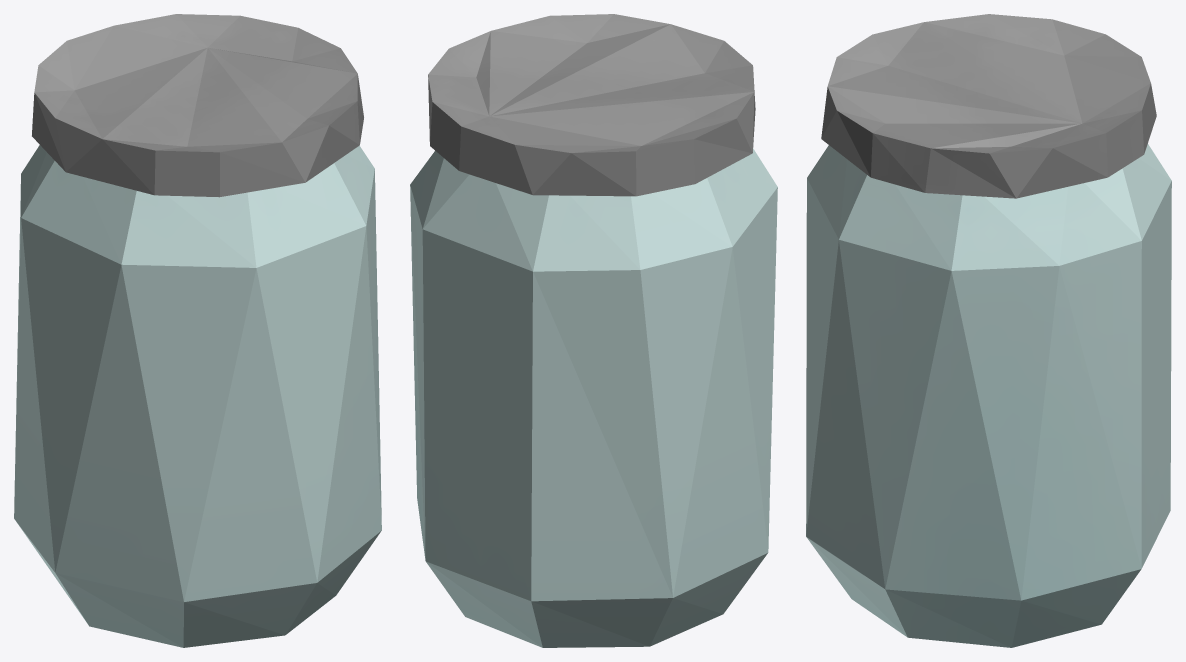
The model's file is bottle2_2a.dae.
3 views of the same model, side by side, from view 1: azimuth 30°, elevation 25°; view 2: azimuth 150°, elevation 25°; view 3: azimuth 270°, elevation 25° (orthographic).
Parts seen in each view (by area): view 1: node; view 2: node; view 3: node.
Part boxes in pixels (<box>): node: <box>14,14,381,647</box>; node: <box>410,14,777,647</box>; node: <box>806,14,1171,647</box>.
Size of the model in its own units: 0.1119 by 0.1706 by 0.1117.
Materials: 1 (1 with a texture image).
